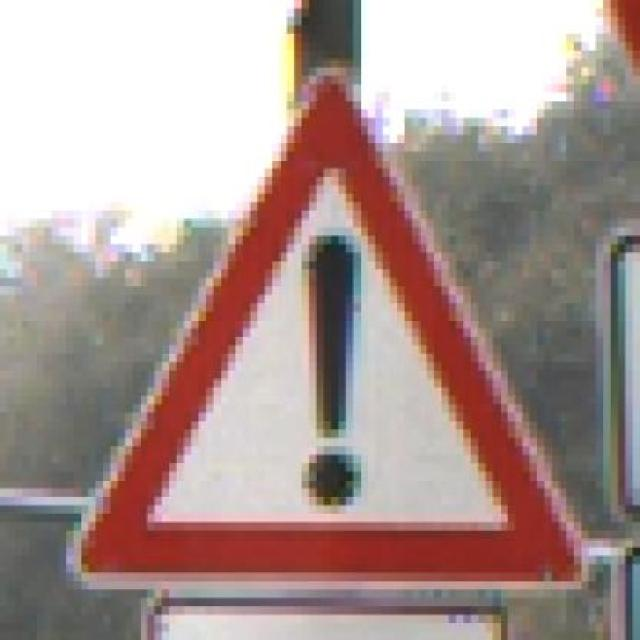Attention Please-: (44, 84, 604, 607)
